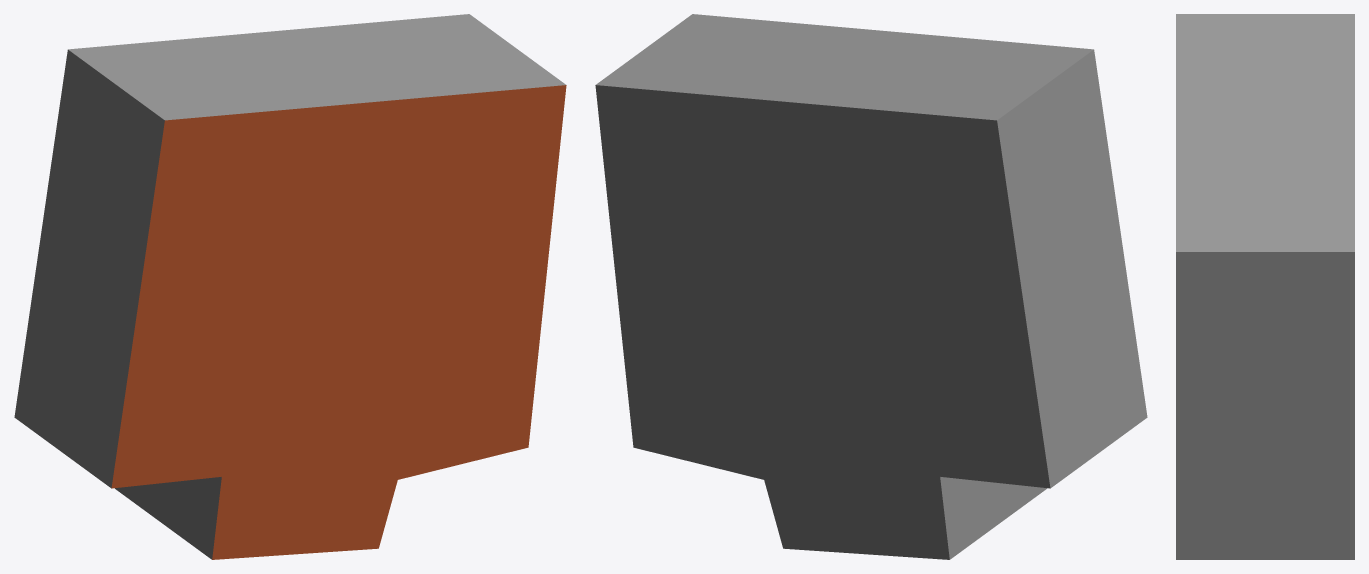
The model's file is construction_3096_assumed_A_Casa_h6m.obj.
The picture shows the model from 3 angles, left to right: view 1: azimuth 30°, elevation 25°; view 2: azimuth 150°, elevation 25°; view 3: azimuth 270°, elevation 25°; orthographic projection. The views are drawn at different scales.
Parts seen in each view (by area): view 1: construction_3096_assumed_A_Casa; view 2: construction_3096_assumed_A_Casa; view 3: construction_3096_assumed_A_Casa.
Boxes of the visible parts, x1,y1,x2,y2 form: construction_3096_assumed_A_Casa: [14, 14, 566, 559]; construction_3096_assumed_A_Casa: [595, 14, 1147, 559]; construction_3096_assumed_A_Casa: [1176, 14, 1354, 559].
Size of the model in its own units: 16.24 by 16.38 by 6.
